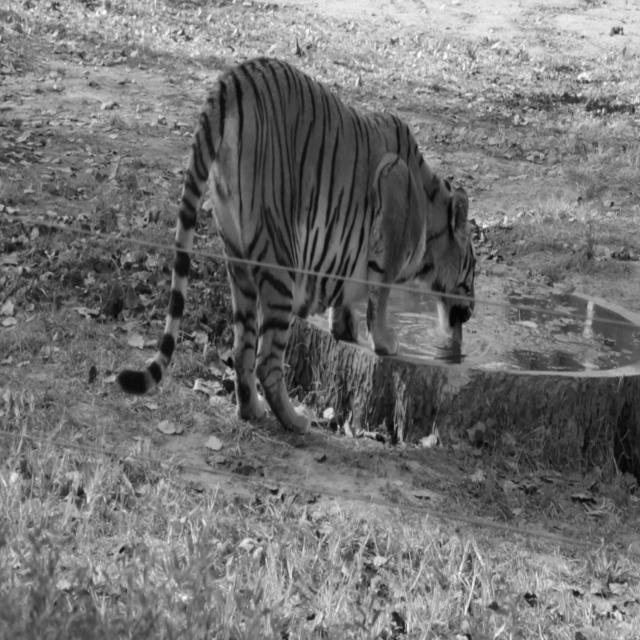Tiger: (116, 54, 476, 436)
